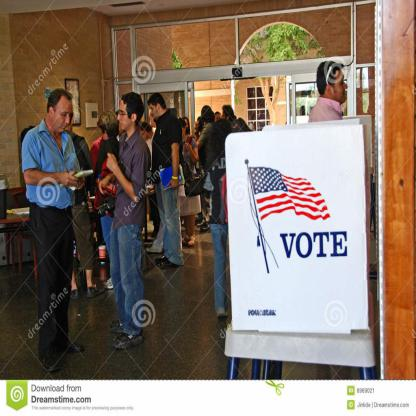face: (56, 101, 74, 134), (333, 70, 349, 103), (118, 103, 132, 132), (149, 104, 159, 121), (182, 120, 189, 133), (142, 129, 149, 140), (216, 114, 222, 124), (222, 112, 227, 121)
